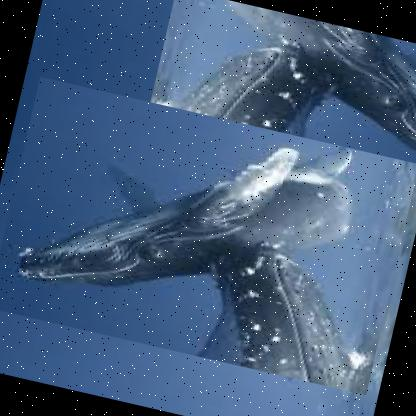blue_whale: (0, 75, 415, 396), (114, 0, 415, 314)
